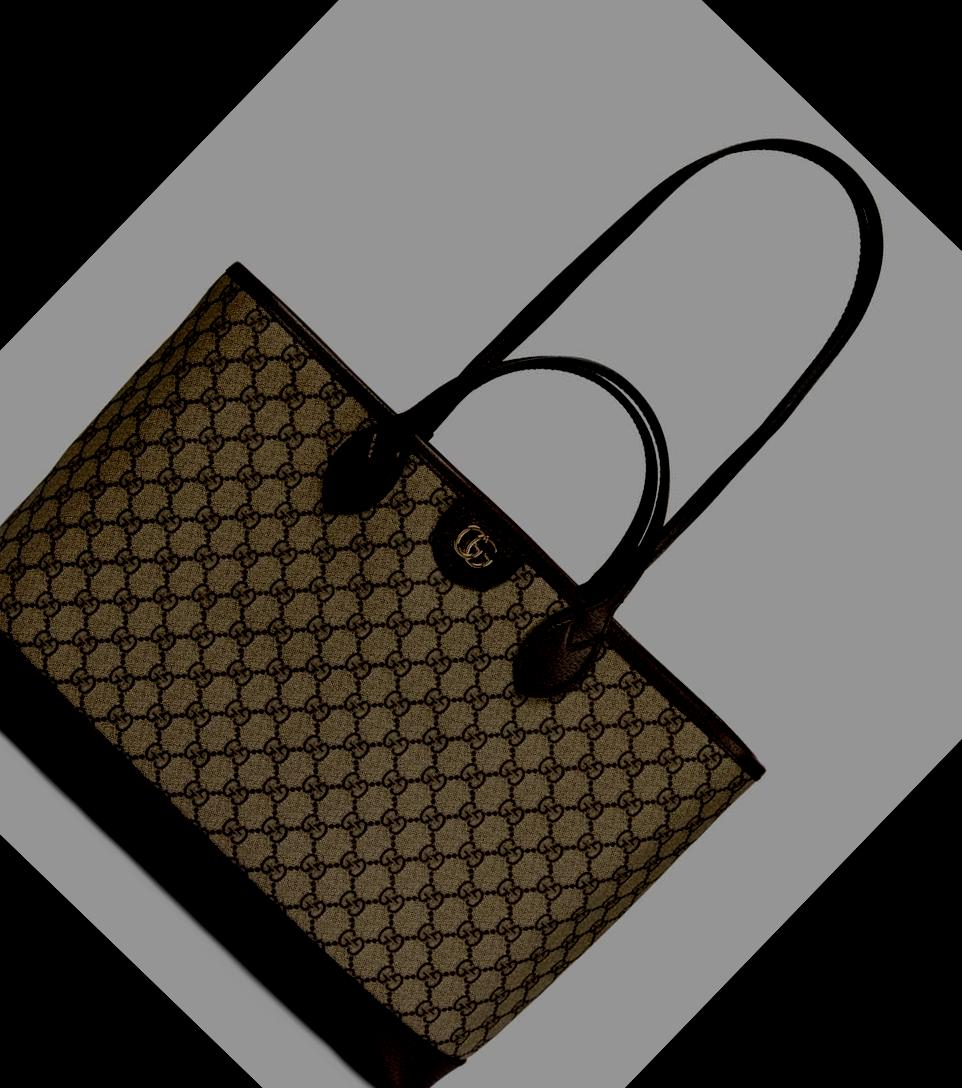GUCCI: (446, 518, 504, 576)
